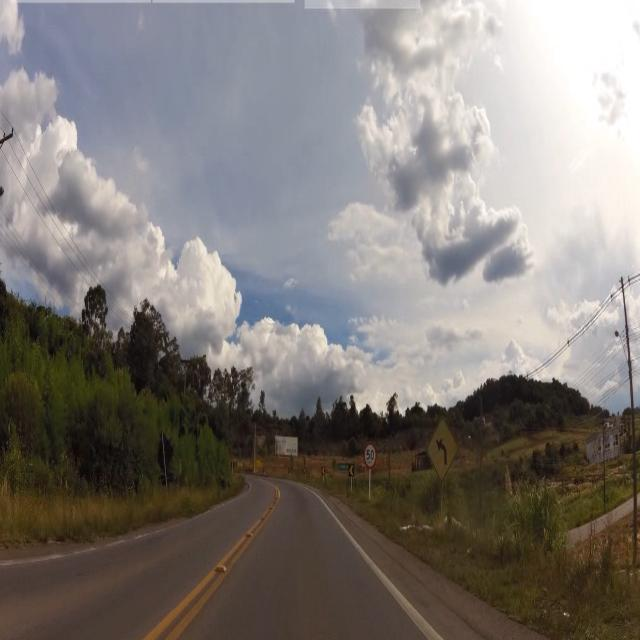A-2a: (427, 411, 456, 486)
R-19: (365, 439, 374, 469)
